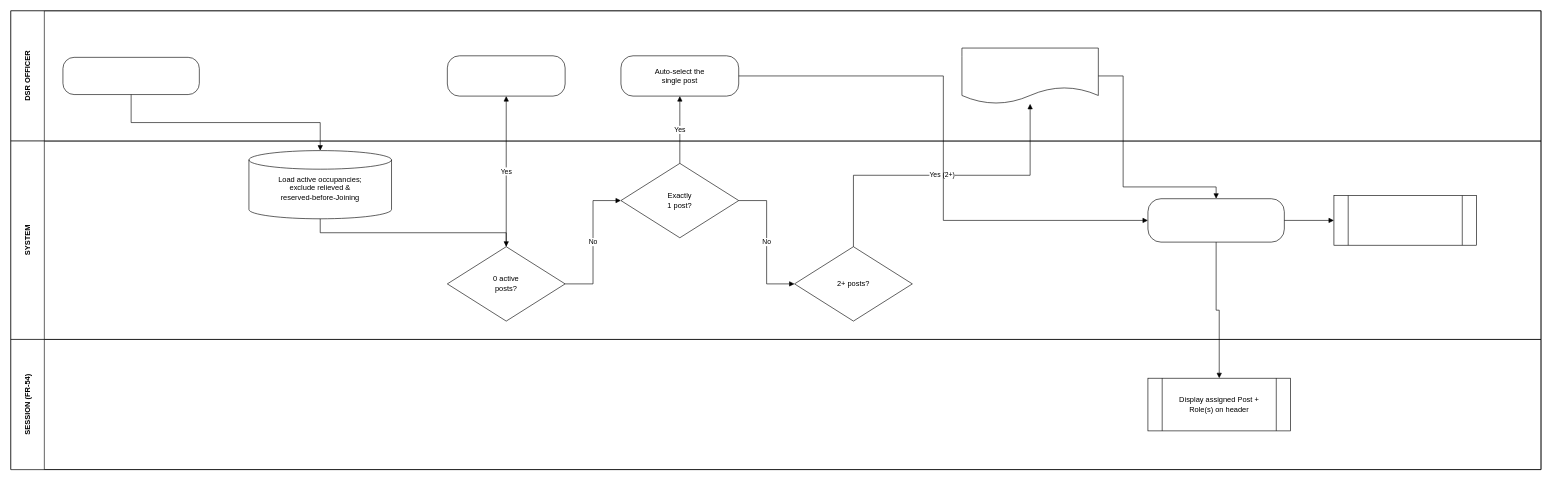
The diagram is 1552 pixels wide and 481 high, and some of its shapes have lost their labels. Each missing label, with the centre of its shape:
"After P-02 authentication" goes at point 130,76.
"Block / limit login per policy" goes at point 506,75.
"FR-53 not offered at login — see P-06" goes at point 1405,220.
"Mandatory list: Role — Post Name — Office Name (Office Code)" goes at point 1029,75.
"Resolve Module Function claims from selected post" goes at point 1215,220.
